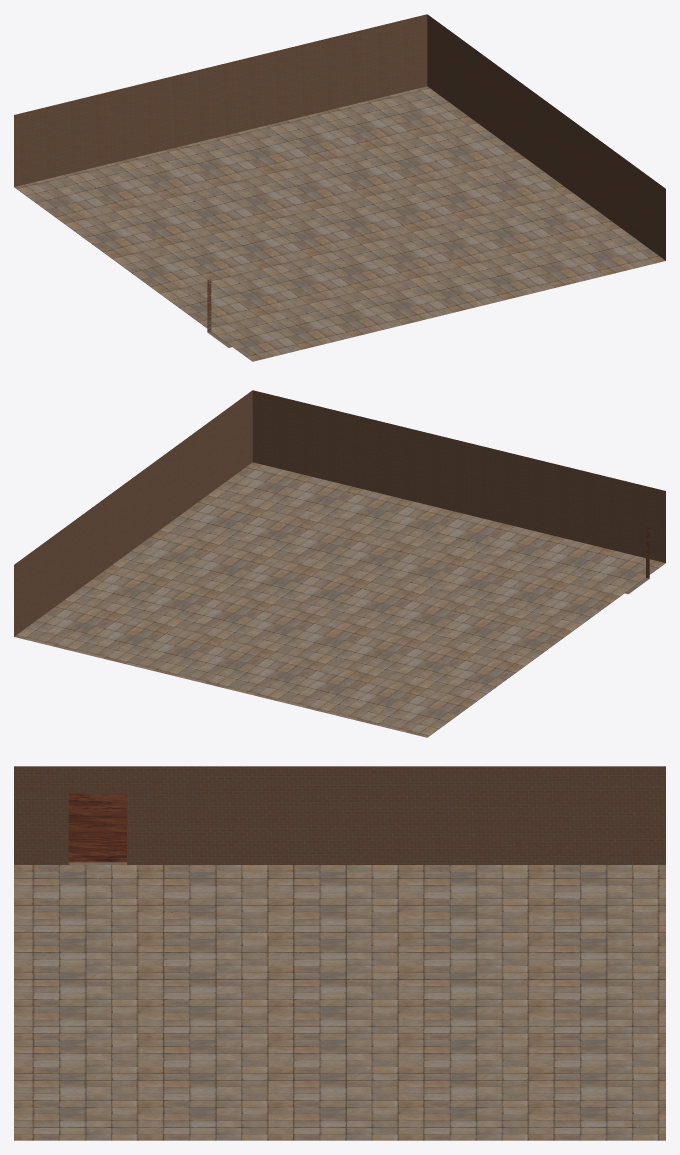
The model's file is fullClassroom.glb.
3 renders of one model, top to bottom at view 1: azimuth 30°, elevation 25°; view 2: azimuth 150°, elevation 25°; view 3: azimuth 270°, elevation 25°, orthographic. The views are drawn at different scales.
Parts seen in each view (by area): view 1: Cube; view 2: Cube; view 3: Cube.
Part boxes in pixels (x1=…): Cube: x1=14, y1=14, x2=665, y2=361; Cube: x1=14, y1=390, x2=665, y2=737; Cube: x1=14, y1=766, x2=665, y2=1140.
Bounding box in the file's own units: 6.06 × 1 × 6.
4 materials, 4 textured.
